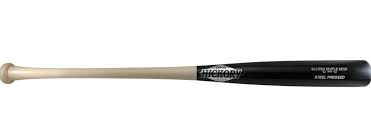baseball bat: (1, 59, 371, 89)
